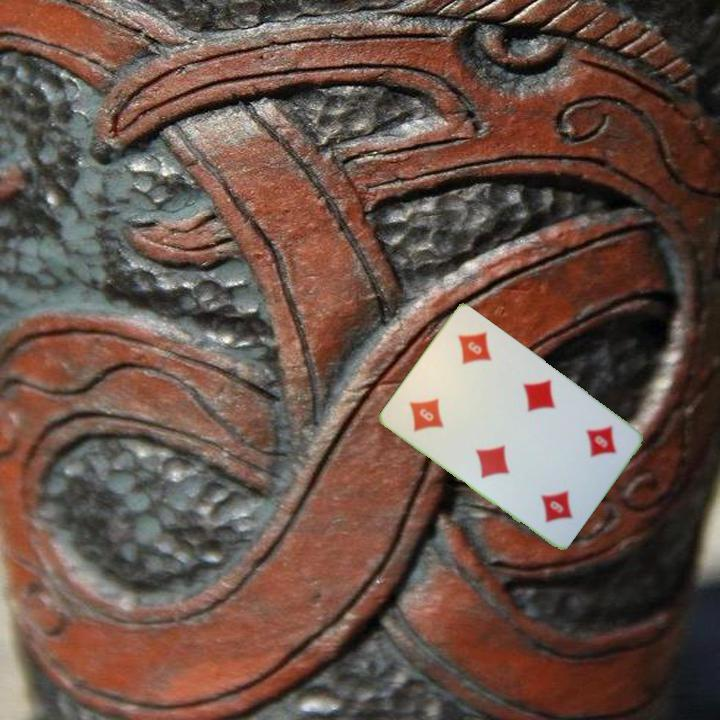d_6.png: (550, 404, 634, 490), (389, 364, 473, 450)
